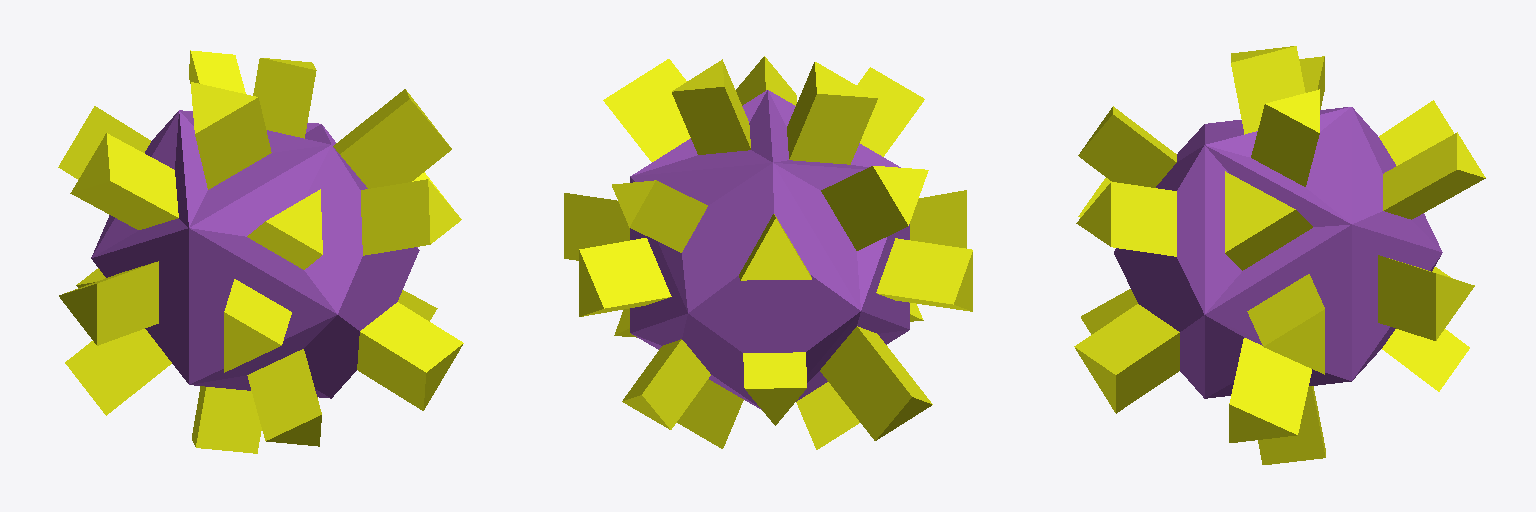
3 views of the same model, side by side, from view 1: azimuth 30°, elevation 25°; view 2: azimuth 150°, elevation 25°; view 3: azimuth 270°, elevation 25° (orthographic).
Visible parts, largest first — view 1: pPlatonic1; view 2: pPlatonic1; view 3: pPlatonic1.
Boxes of the visible parts, x1,y1,x2,y2 form: pPlatonic1: [58, 50, 463, 453]; pPlatonic1: [564, 56, 972, 449]; pPlatonic1: [1074, 46, 1485, 464].
Size of the model in its own units: 2.69 by 2.44 by 2.5.
Materials: 1 (1 with a texture image).